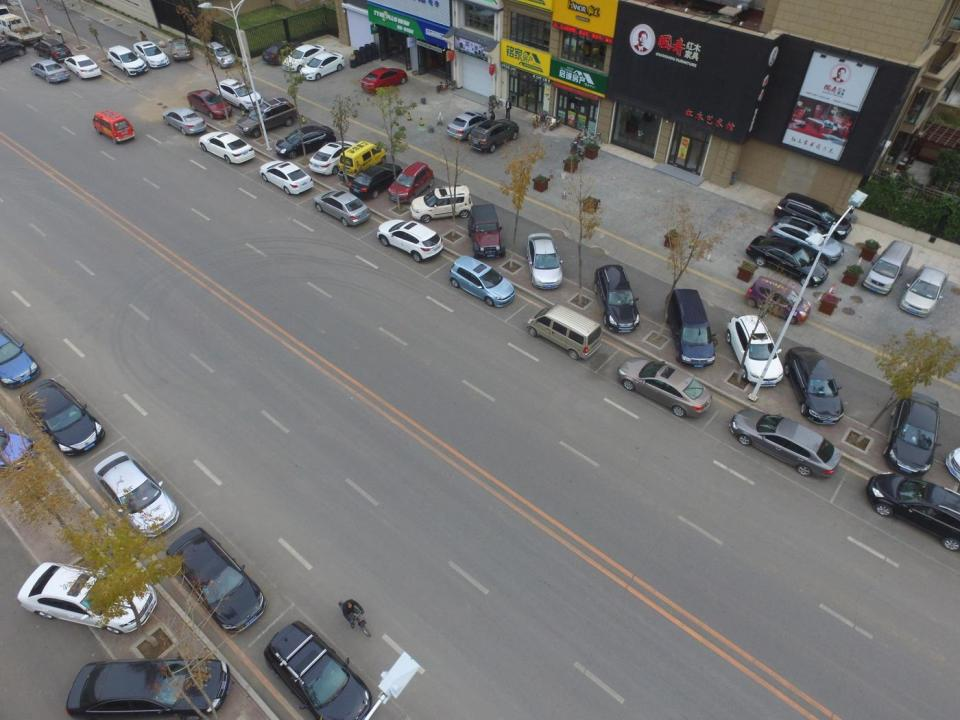car: (17, 559, 159, 636), (164, 528, 265, 631), (266, 620, 374, 716), (67, 660, 233, 720), (728, 410, 842, 482), (866, 474, 960, 554), (93, 452, 178, 536), (19, 378, 102, 458), (620, 356, 710, 422), (885, 383, 942, 476), (784, 345, 845, 426), (748, 229, 826, 286), (765, 218, 845, 268), (728, 315, 782, 388), (666, 286, 714, 366), (773, 193, 851, 240), (448, 258, 515, 309), (594, 263, 640, 336), (744, 276, 811, 325), (376, 218, 444, 262), (901, 266, 950, 320), (0, 324, 40, 387), (410, 184, 472, 224), (466, 205, 506, 262), (527, 233, 565, 292), (258, 158, 314, 197), (315, 189, 370, 228), (240, 100, 298, 135), (276, 125, 333, 160), (1, 424, 35, 482), (199, 131, 256, 165), (470, 117, 519, 156), (215, 79, 265, 115), (390, 162, 436, 201), (349, 162, 401, 195), (445, 110, 497, 141), (311, 138, 354, 175), (106, 45, 148, 80), (187, 89, 232, 121), (361, 66, 409, 95), (300, 51, 343, 83), (160, 106, 206, 135), (264, 38, 304, 66), (34, 36, 74, 64), (132, 41, 170, 70), (283, 45, 325, 71), (65, 54, 102, 80), (29, 62, 69, 85), (204, 42, 236, 70), (169, 36, 195, 63), (0, 40, 25, 68)
truck: (0, 13, 42, 47)
van: (524, 306, 603, 362), (864, 240, 912, 296), (336, 140, 387, 177), (92, 109, 136, 146)
